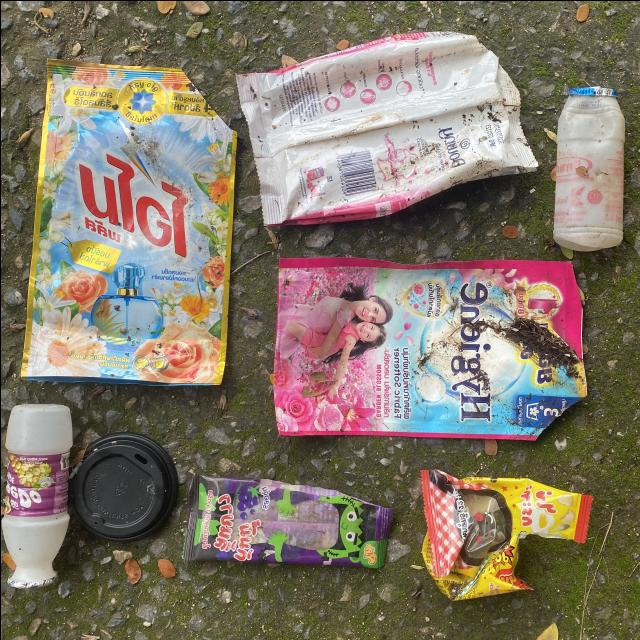plastik: (20, 59, 235, 383), (236, 31, 537, 224), (273, 258, 586, 439), (420, 469, 591, 600), (182, 475, 392, 567), (0, 403, 72, 587), (69, 431, 177, 540), (553, 86, 624, 251)
